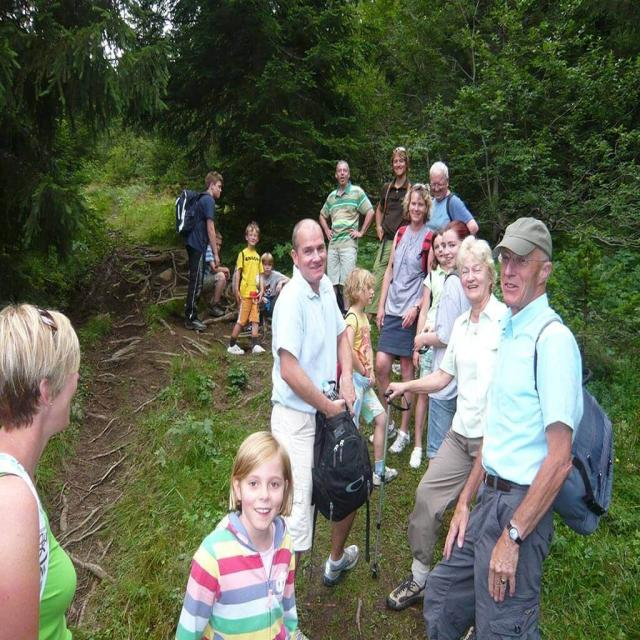body: (417, 211, 617, 639), (383, 233, 513, 612), (270, 216, 362, 586), (0, 302, 81, 639), (174, 430, 299, 640), (366, 181, 436, 455), (412, 216, 474, 472), (337, 266, 399, 487), (408, 225, 454, 471), (318, 158, 376, 321), (362, 144, 412, 325), (174, 168, 225, 332), (225, 218, 268, 358), (425, 160, 479, 235), (198, 228, 232, 318), (257, 251, 291, 317)
